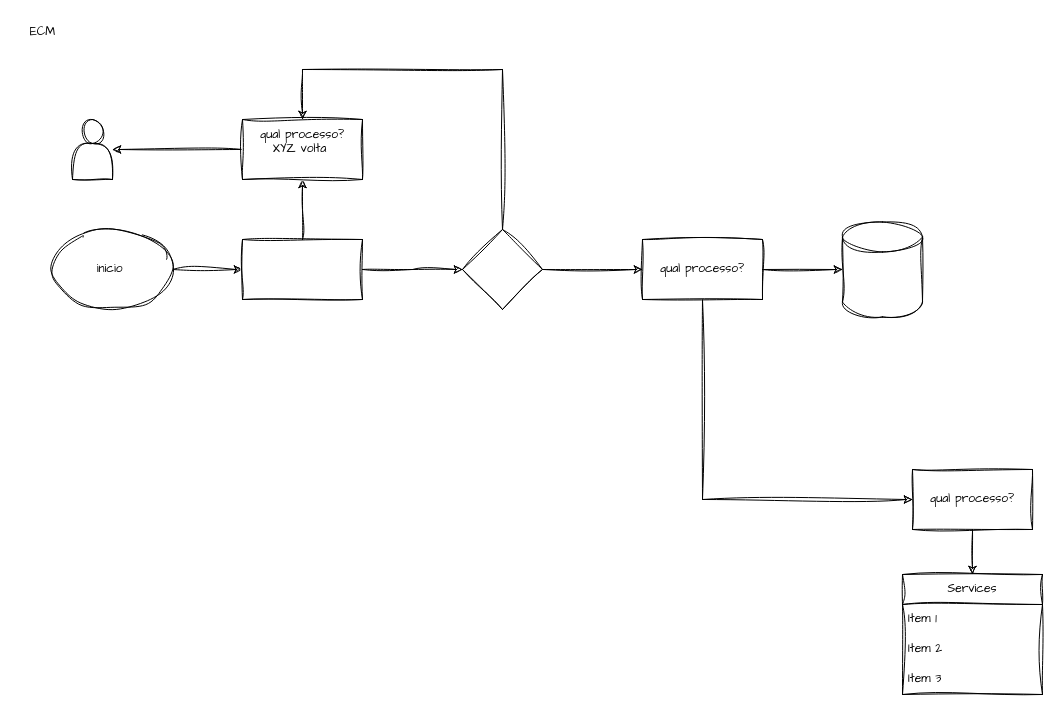
Some shapes in this 1060 by 712 pixel diagram are drawn without their labels. Each missing label, with the centre of its shape:
"c r u d" goes at (x=882, y=269).
"qual processo? XYZ" goes at (x=302, y=269).
"verificacao?" goes at (x=502, y=269).
